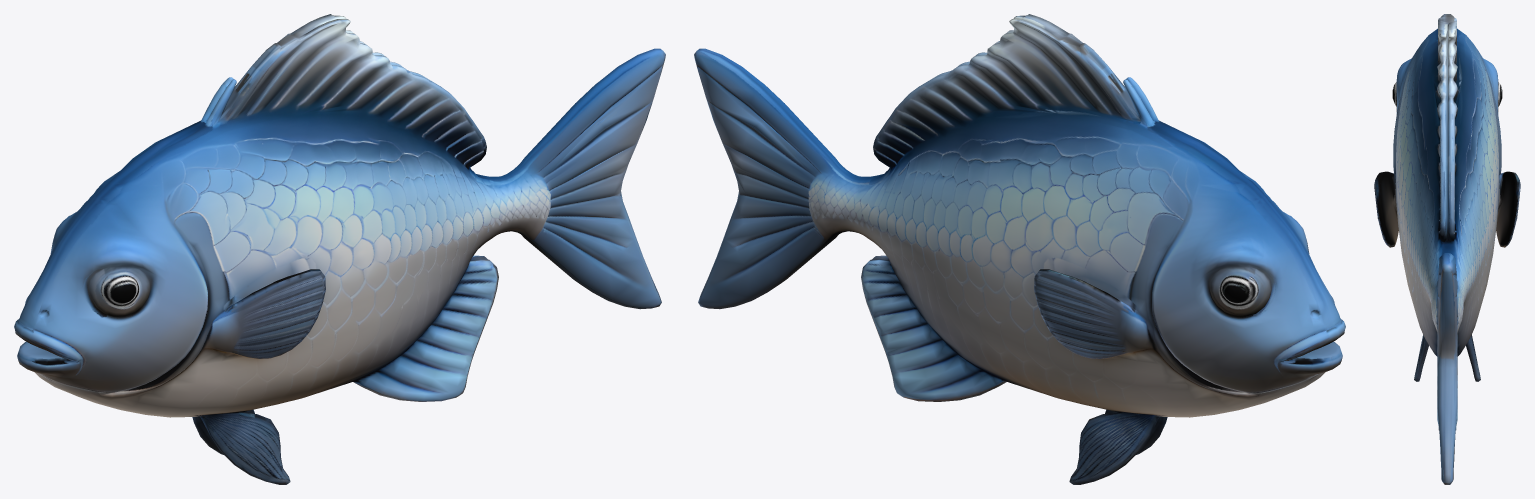
File: fish_mobile_v1.glb
3 renders of one model, left to right at view 1: azimuth 30°, elevation 25°; view 2: azimuth 150°, elevation 25°; view 3: azimuth 270°, elevation 25°, orthographic. The views are drawn at different scales.
Parts seen in each view (by area): view 1: mesh_rep_0_ori_repair; view 2: mesh_rep_0_ori_repair; view 3: mesh_rep_0_ori_repair.
Part boxes in pixels (box(x1,y1,x2,y2)): mesh_rep_0_ori_repair: box(14, 14, 665, 484); mesh_rep_0_ori_repair: box(694, 14, 1345, 484); mesh_rep_0_ori_repair: box(1374, 14, 1520, 484).
Bounding box in the file's own units: 1.12 × 0.722 × 0.2502.
1 material, 1 textured.
